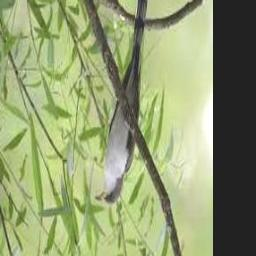Cuckoo: (96, 0, 149, 205)
